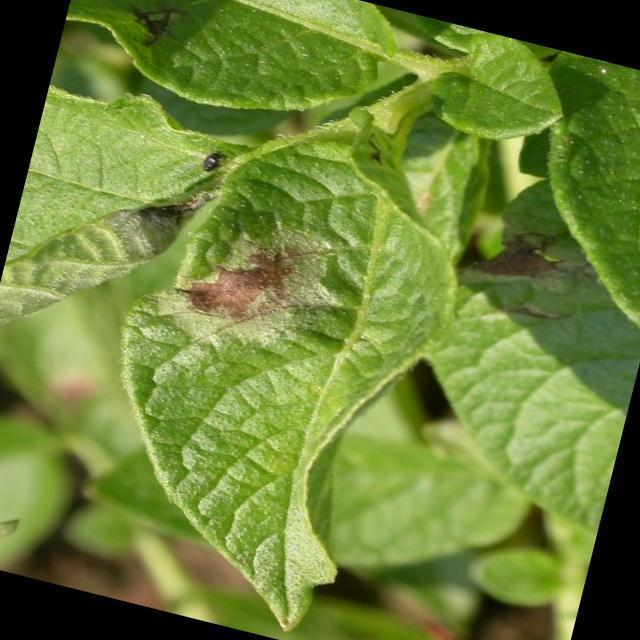Healthy Leaf: (428, 23, 578, 150)
